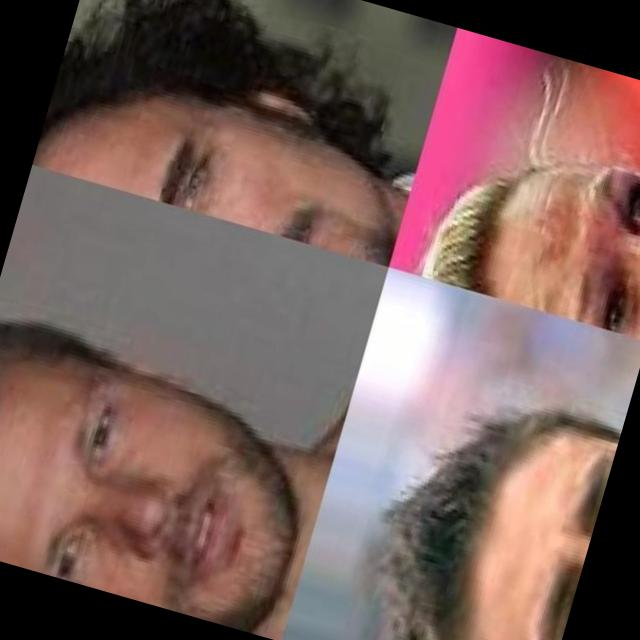bareface: (0, 331, 329, 630)
